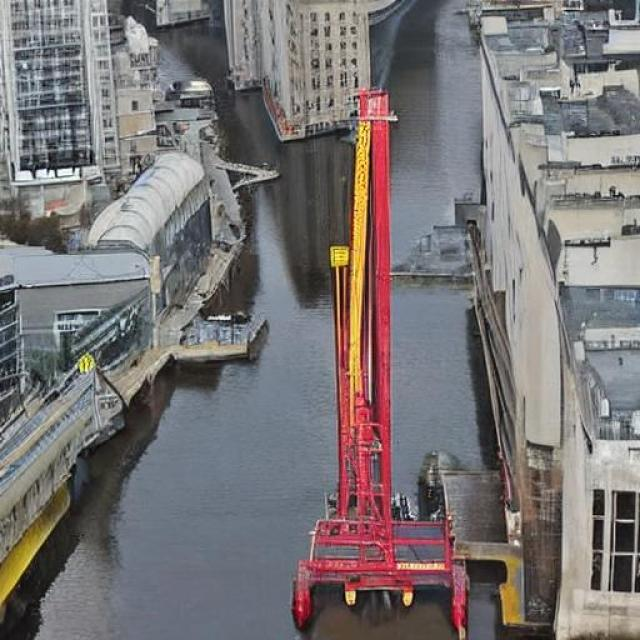crane: (265, 42, 465, 553)
